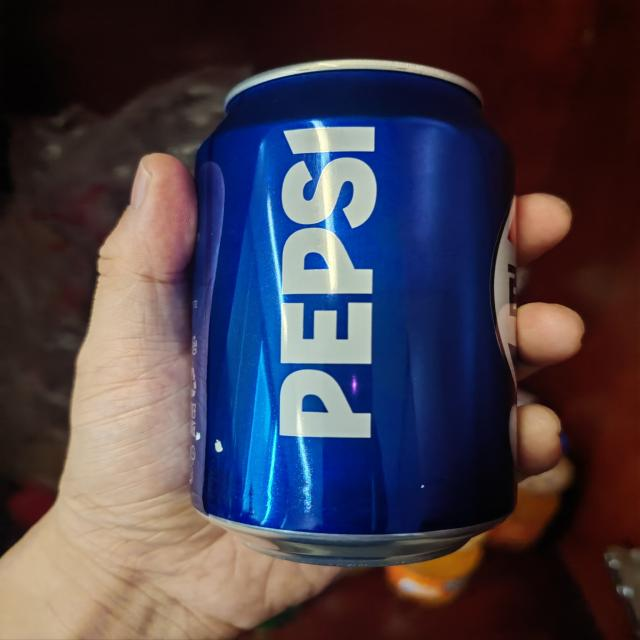can: (179, 57, 527, 571)
